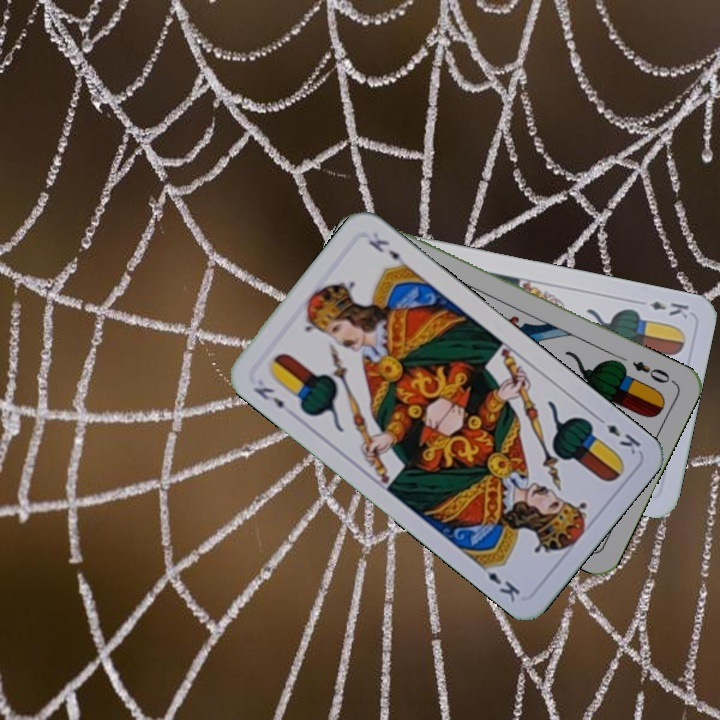EK: (591, 411, 643, 458), (646, 297, 692, 321), (249, 383, 287, 412)
EO: (628, 357, 677, 386)
